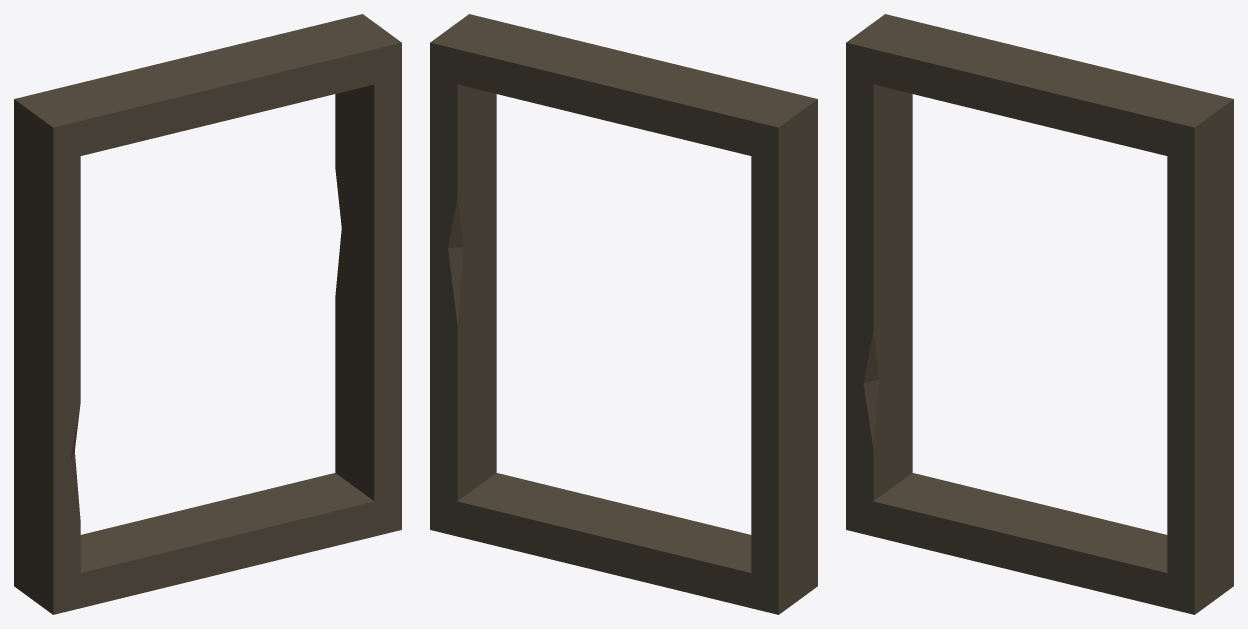
Rendered from SM_Bld_Village_Window_02.fbx.
3 renders of one model, left to right at view 1: azimuth 30°, elevation 25°; view 2: azimuth 150°, elevation 25°; view 3: azimuth 330°, elevation 25°, orthographic.
Parts seen in each view (by area): view 1: SM_Bld_Village_Window_02; view 2: SM_Bld_Village_Window_02; view 3: SM_Bld_Village_Window_02.
Part boxes in pixels (x1=…): SM_Bld_Village_Window_02: x1=14, y1=14, x2=401, y2=614; SM_Bld_Village_Window_02: x1=430, y1=14, x2=817, y2=614; SM_Bld_Village_Window_02: x1=846, y1=14, x2=1233, y2=614.
Bounding box in the file's own units: 119 × 159 × 23.14.
